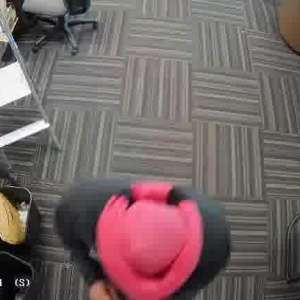person: (52, 177, 234, 300)
